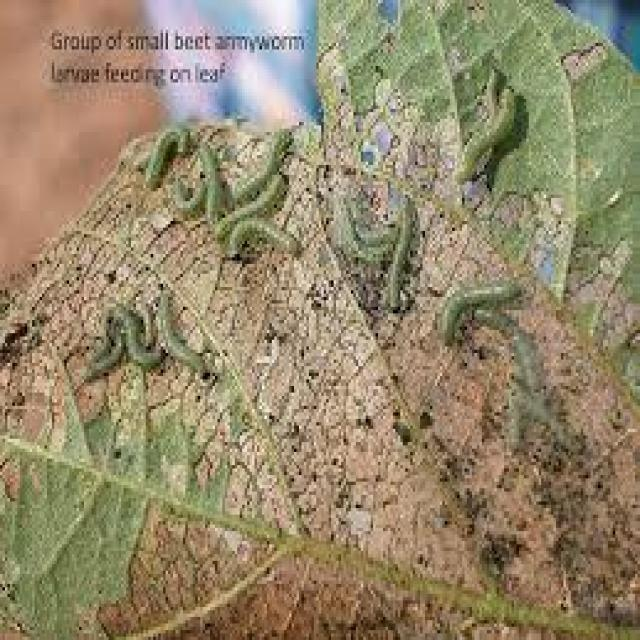Army Worm: (458, 300, 557, 405), (455, 82, 523, 182), (427, 271, 534, 332), (501, 379, 575, 464), (155, 284, 217, 384), (232, 126, 303, 201), (335, 191, 398, 274), (215, 166, 288, 236), (387, 182, 422, 326), (134, 116, 194, 194), (226, 213, 306, 268), (118, 297, 160, 374), (79, 316, 125, 384), (198, 132, 224, 228), (167, 178, 204, 218)
